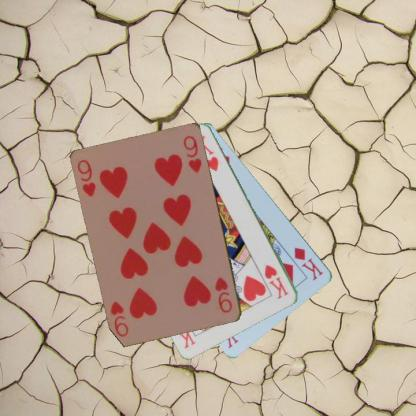9h: (75, 157, 98, 199), (213, 274, 234, 314)
Kd: (292, 244, 324, 282)
Kh: (262, 262, 290, 300)
